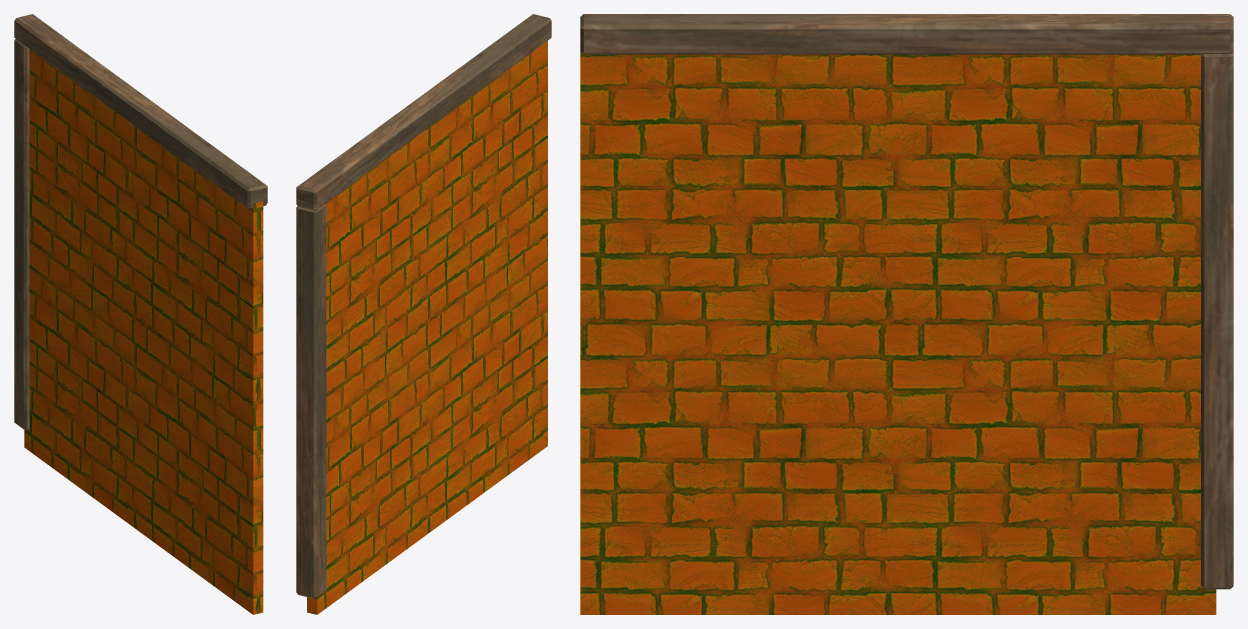
Rendered from SM_wall_02.fbx.
3 views of the same model, side by side, from view 1: azimuth 30°, elevation 25°; view 2: azimuth 150°, elevation 25°; view 3: azimuth 270°, elevation 25° (orthographic). The views are drawn at different scales.
Parts seen in each view (by area): view 1: SM_wall_02_LOD0; view 2: SM_wall_02_LOD0; view 3: SM_wall_02_LOD0.
Part boxes in pixels (x1,y1,x2,y2): SM_wall_02_LOD0: (14, 14, 267, 614); SM_wall_02_LOD0: (296, 14, 551, 614); SM_wall_02_LOD0: (580, 14, 1233, 614).
Size of the model in its own units: 20 by 400 by 400.
Materials: 2 (2 with a texture image).
